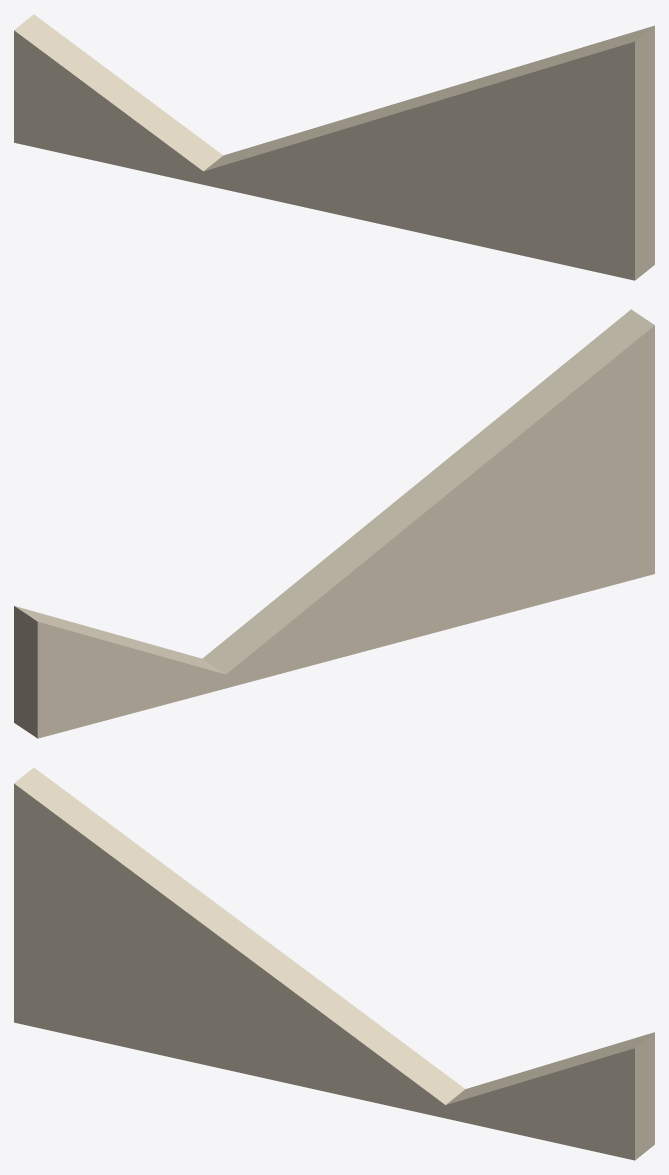
3 renders of one model, top to bottom at view 1: azimuth 90°, elevation 25°; view 2: azimuth 150°, elevation 25°; view 3: azimuth 270°, elevation 25°, orthographic. The views are drawn at different scales.
Parts seen in each view (by area): view 1: B-ROOF-INFILL-03; view 2: B-ROOF-INFILL-03; view 3: B-ROOF-INFILL-03.
Part boxes in pixels (x1,y1,x2,y2): B-ROOF-INFILL-03: (14,14,654,280); B-ROOF-INFILL-03: (14,309,654,738); B-ROOF-INFILL-03: (14,767,654,1160).
Size of the model in its own units: 1.36 by 0.9859 by 2.39.
